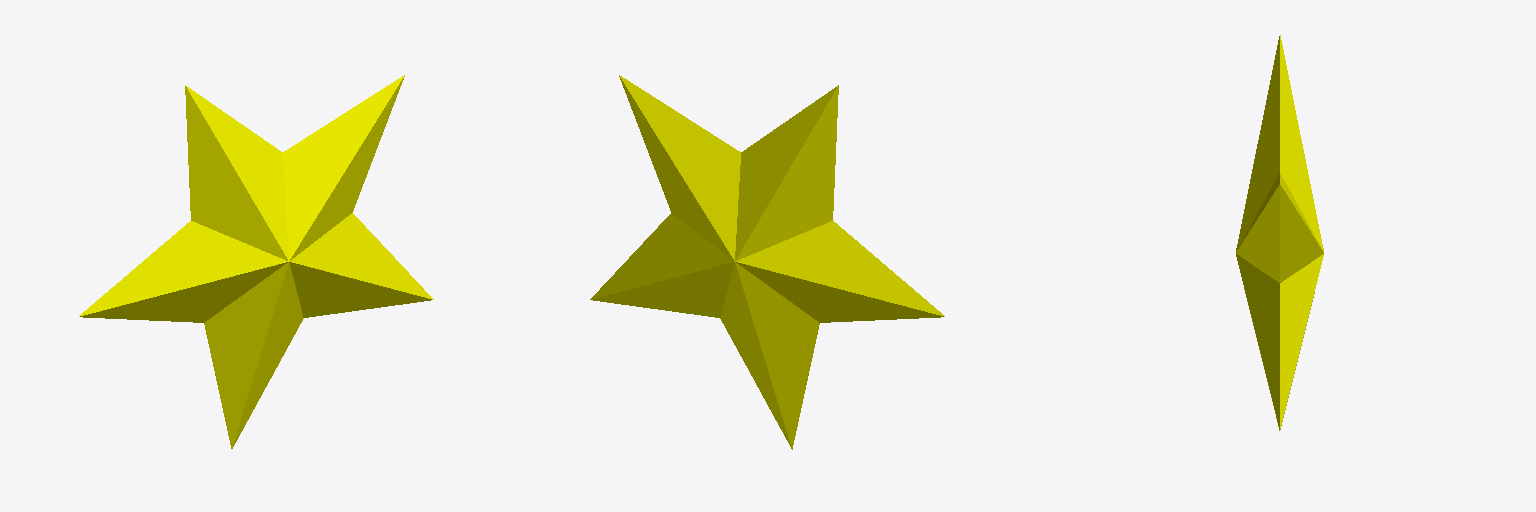
The model's file is star.obj.
3 views of the same model, side by side, from view 1: azimuth 30°, elevation 25°; view 2: azimuth 150°, elevation 25°; view 3: azimuth 270°, elevation 25° (orthographic).
Visible parts, largest first — view 1: Star_Icosphere.001; view 2: Star_Icosphere.001; view 3: Star_Icosphere.001.
Boxes of the visible parts, <box> form: Star_Icosphere.001: <box>79,75,433,448</box>; Star_Icosphere.001: <box>590,75,944,449</box>; Star_Icosphere.001: <box>1236,35,1323,430</box>.
Bounding box in the file's own units: 0.9651 × 0.974 × 0.2085.